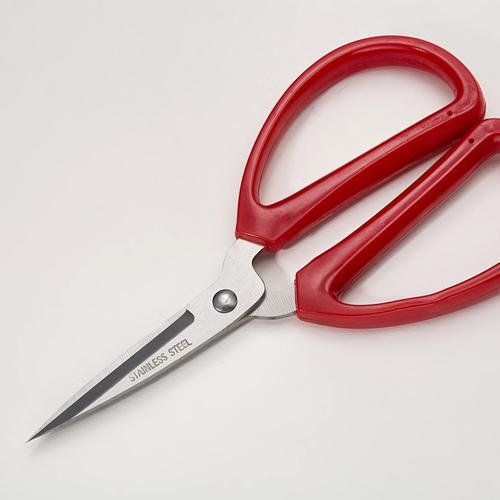scissor: (26, 34, 499, 444)
